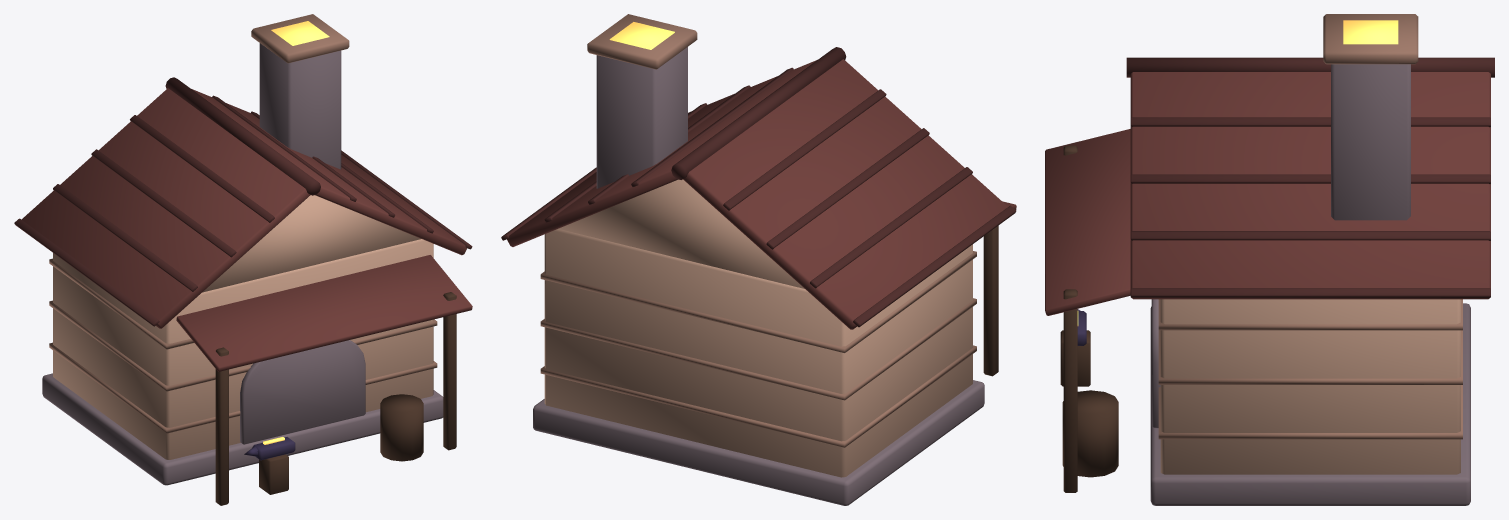
Rendered from forge.glb.
The picture shows the model from 3 angles, left to right: view 1: azimuth 30°, elevation 25°; view 2: azimuth 150°, elevation 25°; view 3: azimuth 270°, elevation 25°; orthographic projection. The views are drawn at different scales.
Visible parts, largest first — view 1: forge:mesh; view 2: forge:mesh; view 3: forge:mesh.
Part boxes in pixels (bbox=[...]): forge:mesh: bbox=[14, 14, 472, 505]; forge:mesh: bbox=[501, 14, 1016, 505]; forge:mesh: bbox=[1045, 14, 1494, 505].
Bounding box in the file's own units: 4.77 × 4.83 × 4.5.
